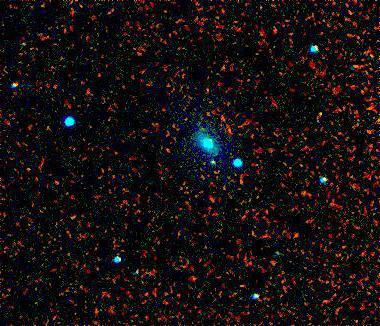star: (62, 204, 92, 234)
